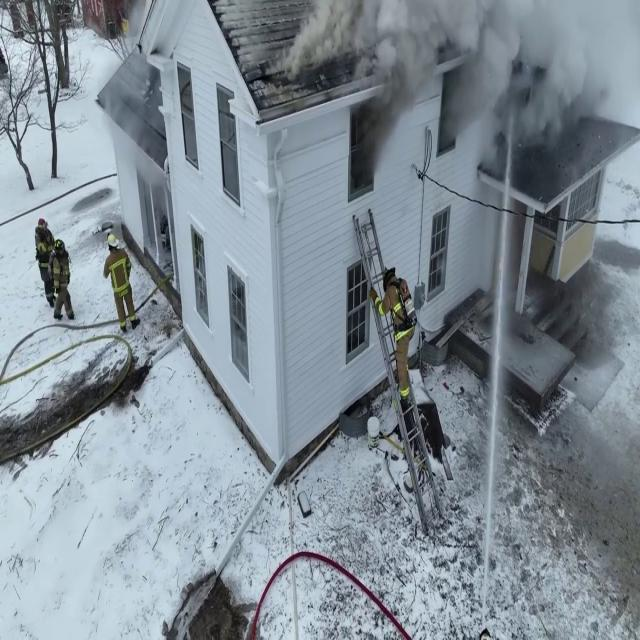Smoke: (270, 0, 639, 168)
